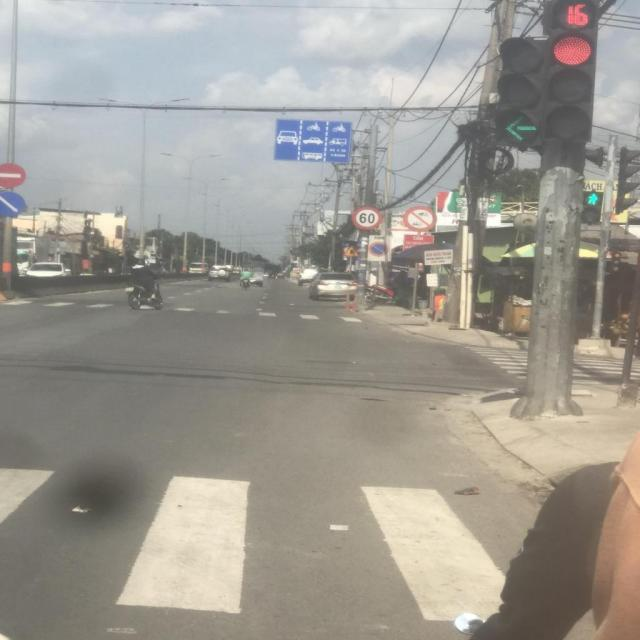cam_cac_loai_xe_3_banh: (402, 205, 438, 232)
cam_do_xe: (368, 241, 389, 257)
cam_xe_di_nguoc_chieu: (0, 162, 27, 190)
giao_nhau_voi_duong_khong_uu_tien: (342, 245, 361, 258)
huong_phai_di_vuot_chuong_ngai_vat_phai: (0, 192, 26, 218)
khac: (274, 120, 352, 162), (403, 235, 434, 251)
toc_do_toi_da_60: (350, 206, 383, 231)
